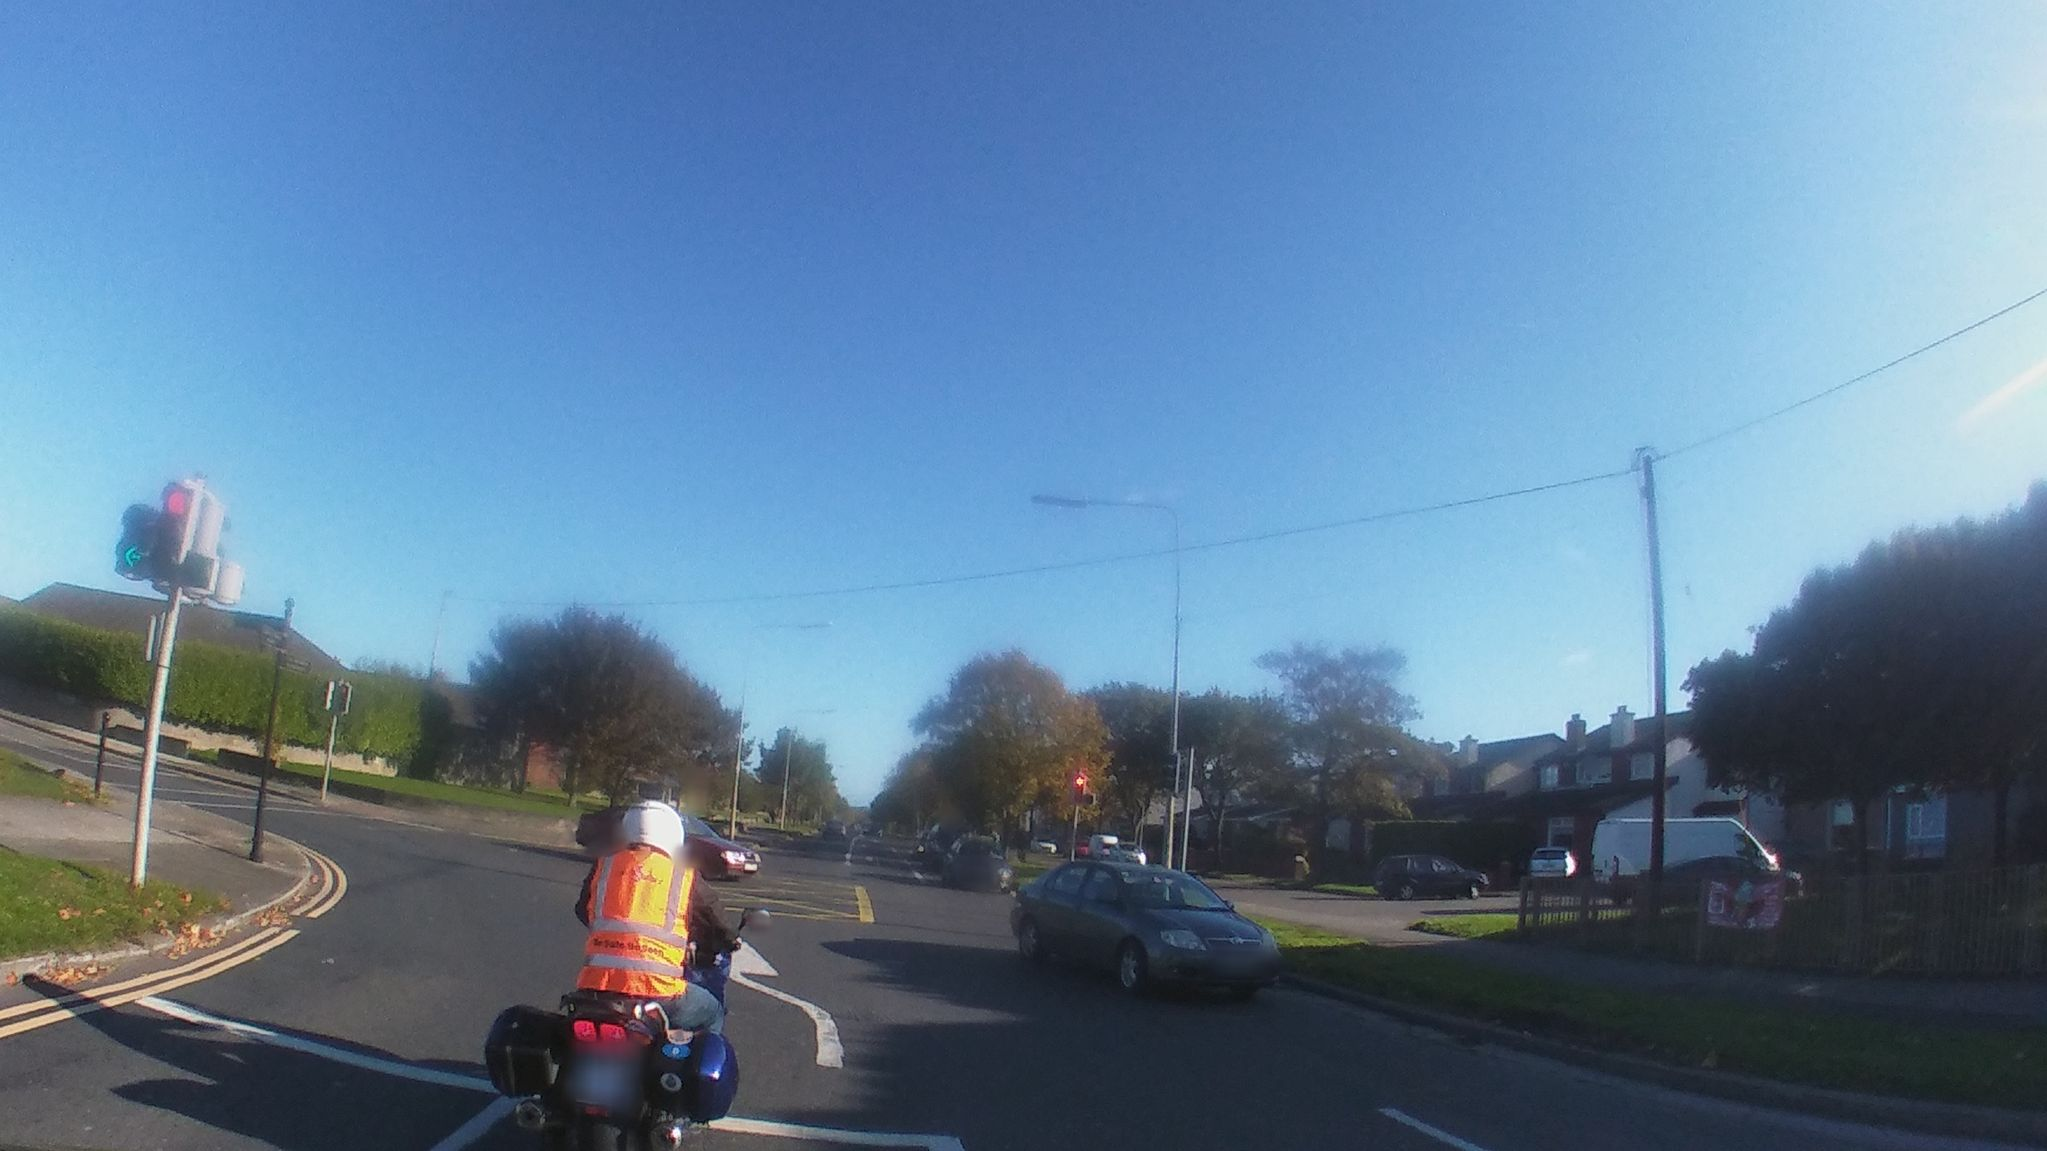vinyl banner: (1691, 869, 1802, 937)
